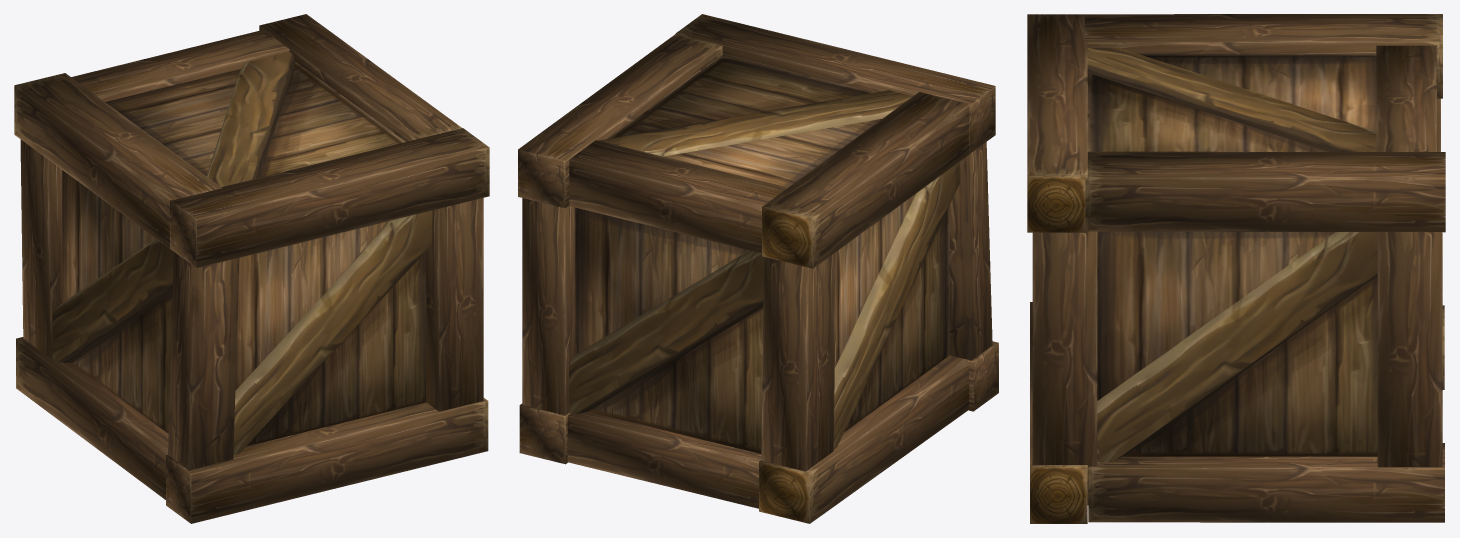
Rendered from stormwindcrate01.obj.
3 views of the same model, side by side, from view 1: azimuth 30°, elevation 25°; view 2: azimuth 150°, elevation 25°; view 3: azimuth 270°, elevation 25° (orthographic). The views are drawn at different scales.
Parts seen in each view (by area): view 1: stormwindcrate01; view 2: stormwindcrate01; view 3: stormwindcrate01.
Part boxes in pixels (<box>): stormwindcrate01: <box>14,14,489,523</box>; stormwindcrate01: <box>518,14,998,523</box>; stormwindcrate01: <box>1027,14,1445,523</box>.
Size of the model in its own units: 1.27 by 1.24 by 1.35.
1 material, 1 textured.
